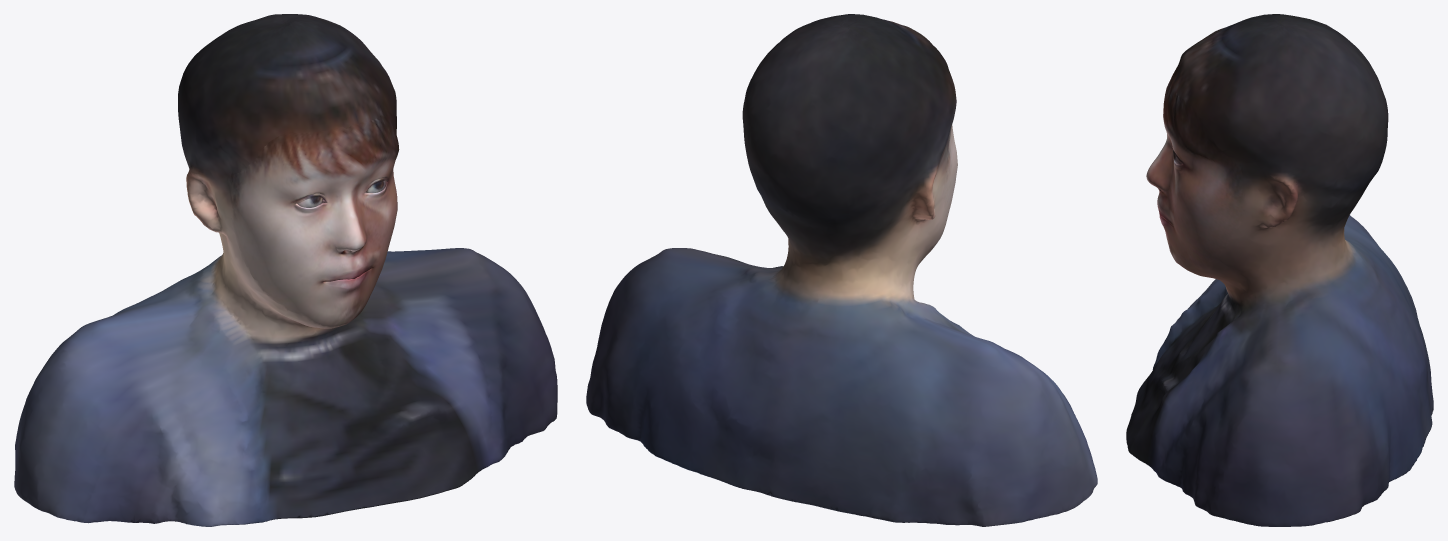
3 renders of one model, left to right at view 1: azimuth 30°, elevation 25°; view 2: azimuth 150°, elevation 25°; view 3: azimuth 270°, elevation 25°, orthographic. The views are drawn at different scales.
Parts seen in each view (by area): view 1: Head; view 2: Head; view 3: Head.
Part boxes in pixels (left/top/right/bottom): Head: left=14, top=14, right=557, bottom=526; Head: left=586, top=14, right=1097, bottom=526; Head: left=1126, top=14, right=1433, bottom=526.
Bounding box in the file's own units: 0.4878 × 0.39 × 0.2788.
